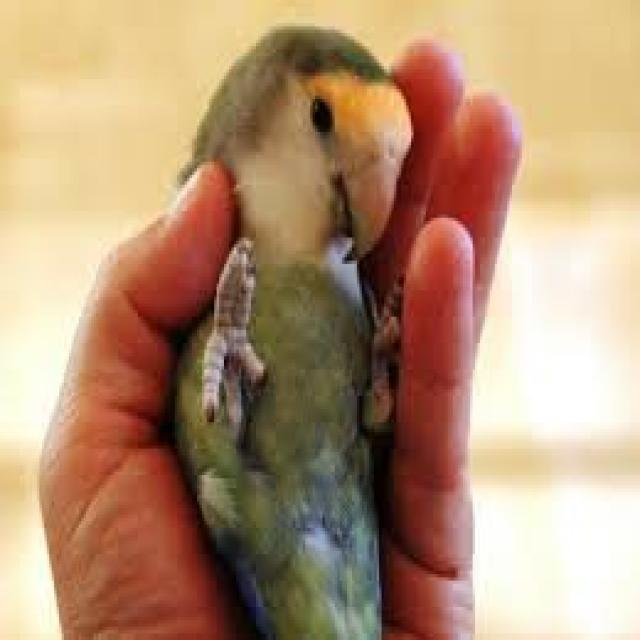Parrot: (174, 28, 415, 640)
